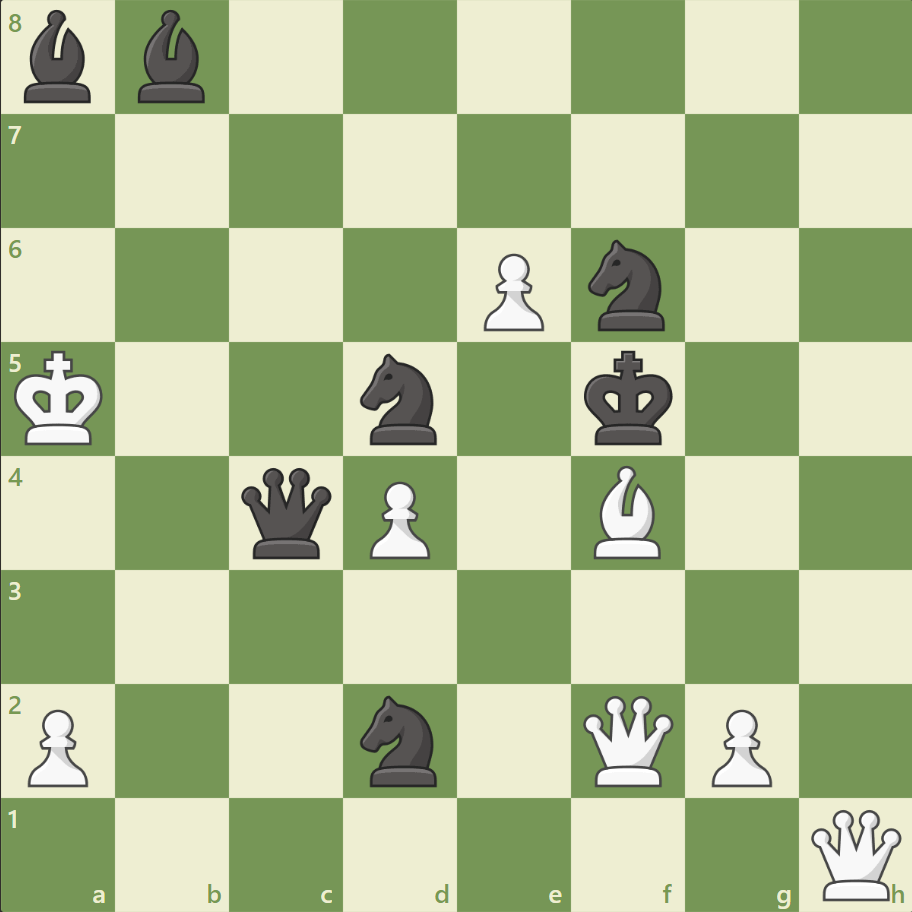B: (585, 460, 669, 563)
K: (11, 344, 111, 452)
P: (474, 246, 549, 337), (20, 700, 95, 791), (701, 700, 776, 791), (361, 473, 435, 564)
Q: (578, 690, 677, 789), (805, 804, 904, 903)
b: (17, 6, 101, 109), (131, 6, 215, 109)
k: (579, 344, 679, 452)
n: (351, 688, 449, 791), (351, 348, 449, 450), (579, 234, 676, 337)
q: (237, 463, 336, 562)
